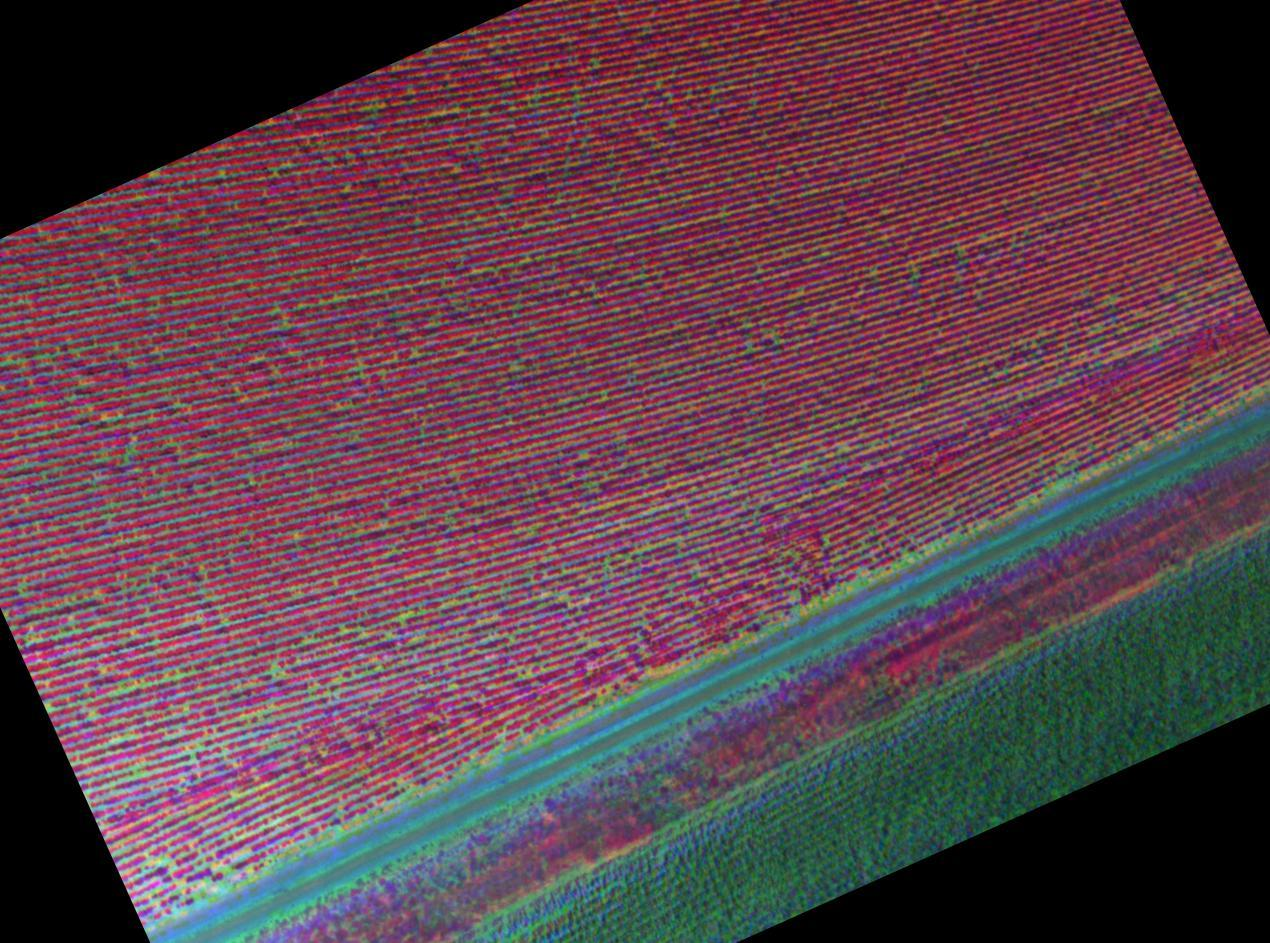dc: (794, 592, 798, 597), (625, 555, 629, 559), (8, 361, 12, 364), (130, 445, 133, 448), (952, 534, 955, 537), (561, 593, 564, 595)
